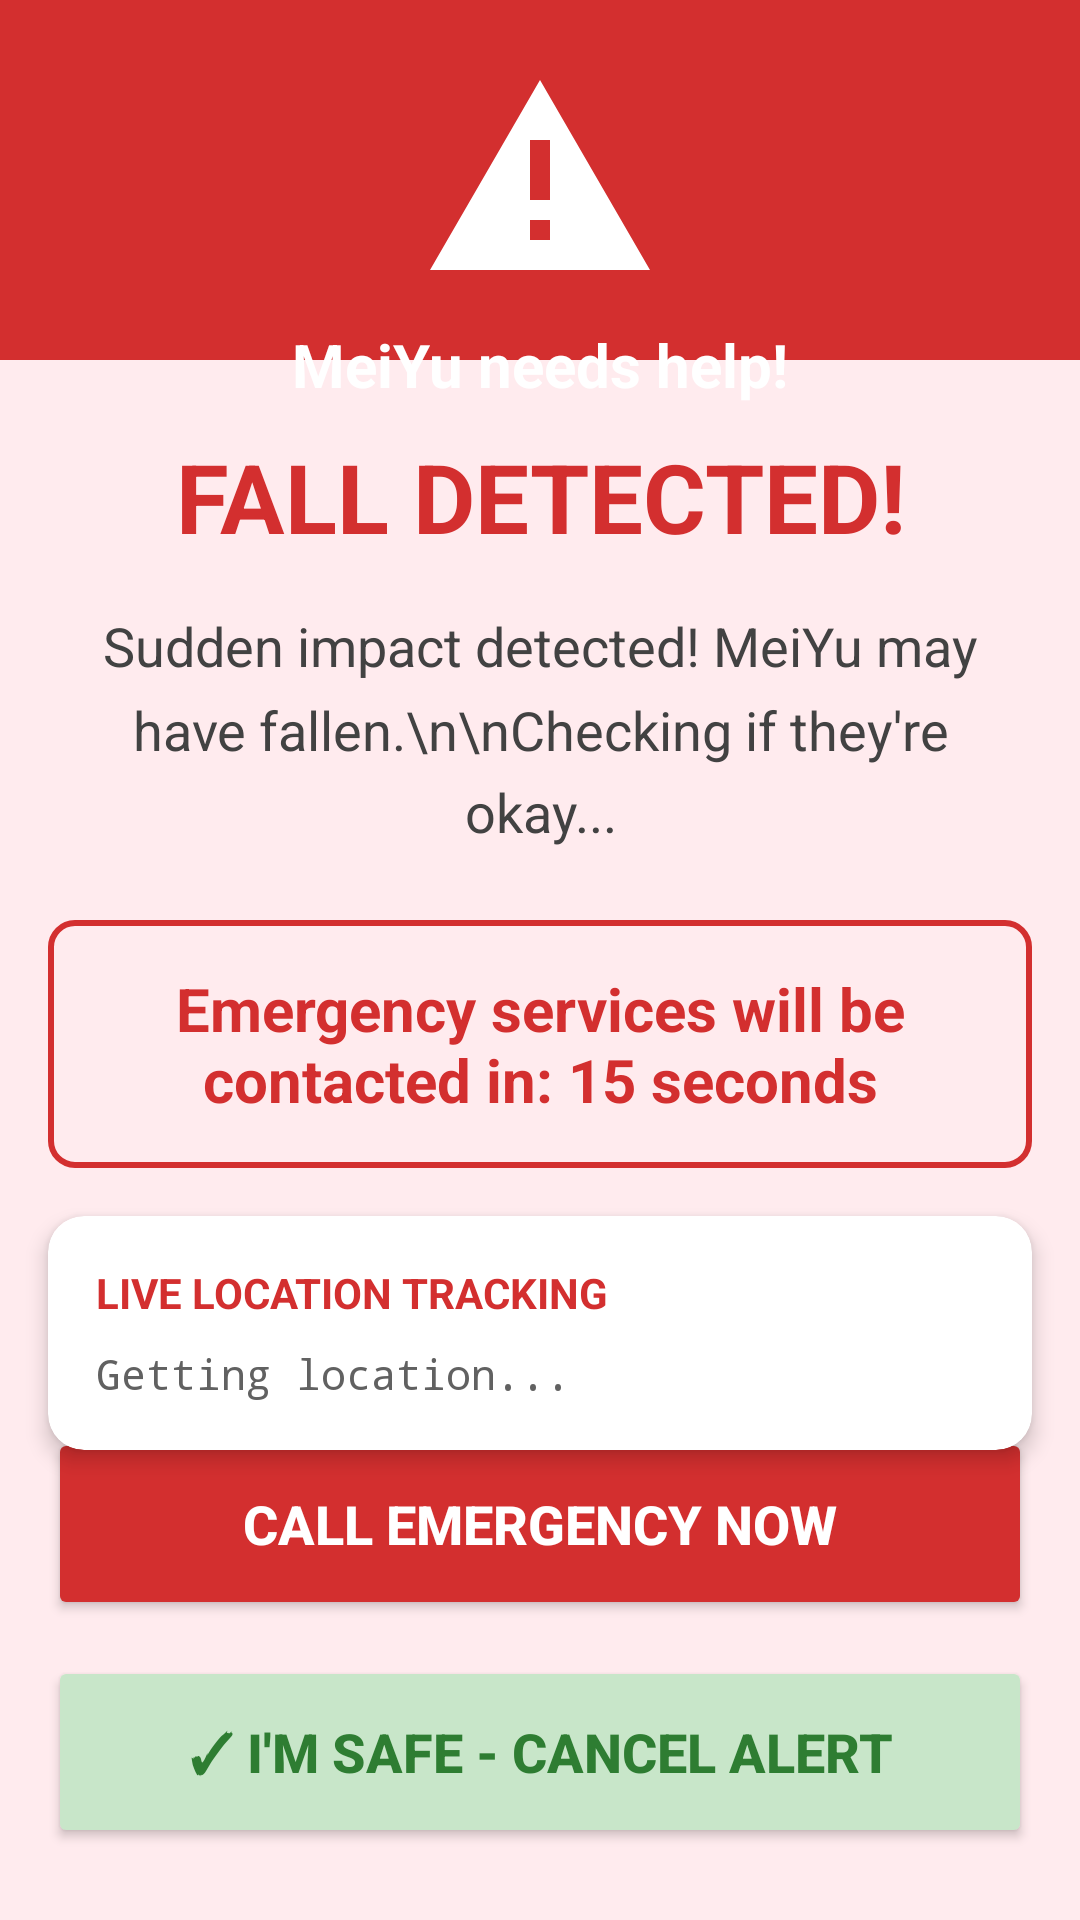

Named icons in this screenshot (1080w x 1920h) and their centers, (x=x, y=y):
emergency: (x=540, y=175)
